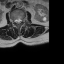CCS_normal: (17, 17, 19, 25)
LFS_normal: (21, 16, 23, 23)
LLS_normal: (19, 17, 21, 24)
RFS_normal: (12, 17, 15, 24)
RLS_normal: (15, 17, 17, 24)
